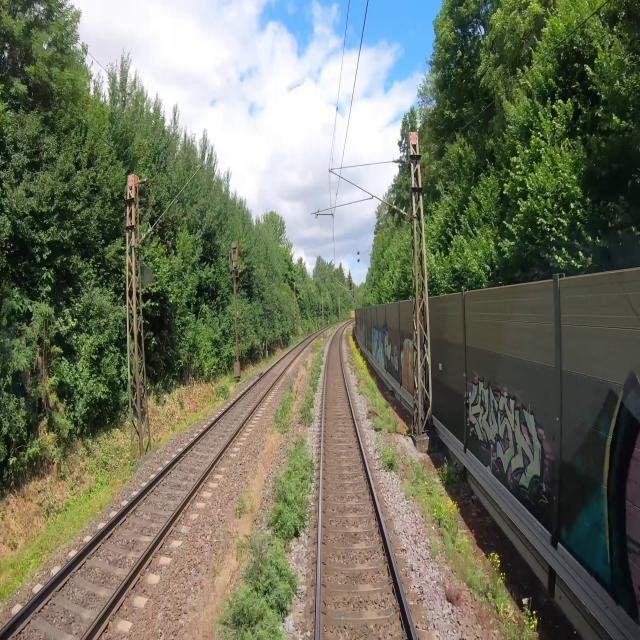Plant: (218, 435, 315, 639), (298, 348, 324, 425), (271, 387, 294, 435), (235, 488, 255, 520), (380, 446, 397, 470), (355, 377, 366, 395), (311, 336, 322, 353), (371, 414, 381, 431), (211, 563, 220, 578), (404, 483, 410, 500), (303, 357, 309, 372), (431, 547, 436, 560)
